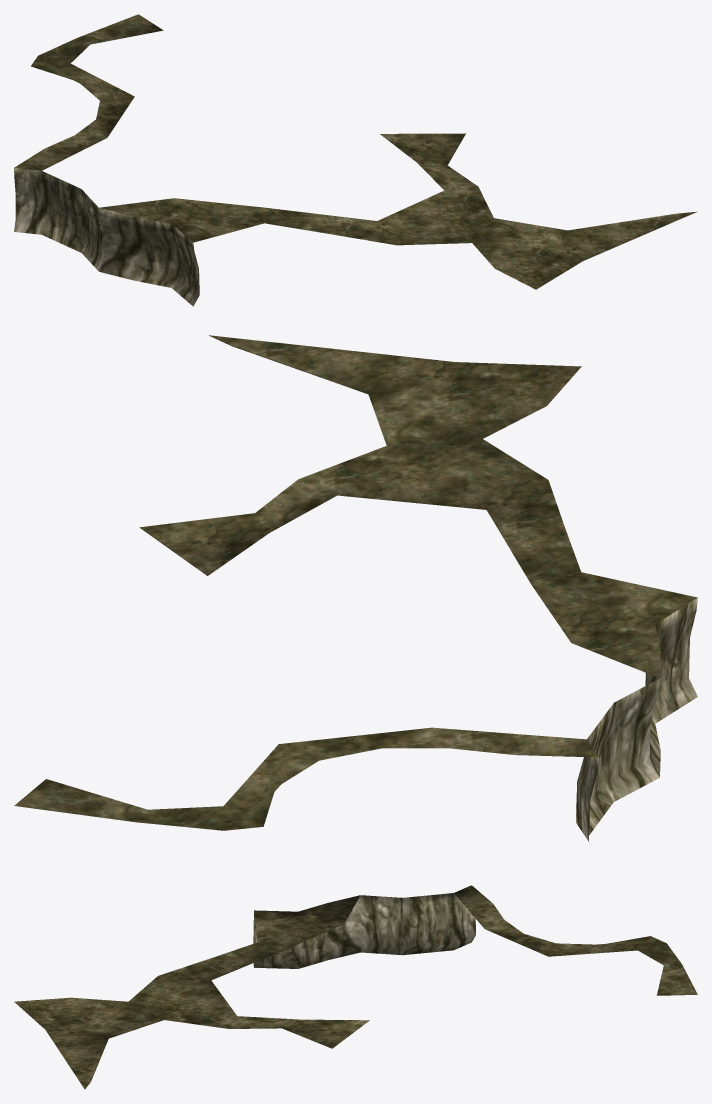
File: CB_NEWPLAYSURFACE_CB_PLAYSURFACE16.fbx
3 views of the same model, one above another, from view 1: azimuth 30°, elevation 25°; view 2: azimuth 150°, elevation 25°; view 3: azimuth 270°, elevation 25° (orthographic). The views are drawn at different scales.
Parts seen in each view (by area): view 1: CB_NEWPLAYSURFACE_CB_PLAYSURFACE16; view 2: CB_NEWPLAYSURFACE_CB_PLAYSURFACE16; view 3: CB_NEWPLAYSURFACE_CB_PLAYSURFACE16.
Boxes of the visible parts, <box> form: CB_NEWPLAYSURFACE_CB_PLAYSURFACE16: <box>14,14,697,306</box>; CB_NEWPLAYSURFACE_CB_PLAYSURFACE16: <box>14,335,697,841</box>; CB_NEWPLAYSURFACE_CB_PLAYSURFACE16: <box>14,885,697,1089</box>.
Bounding box in the file's own units: 306002 × 40000 × 432199.
2 materials, 2 textured.
